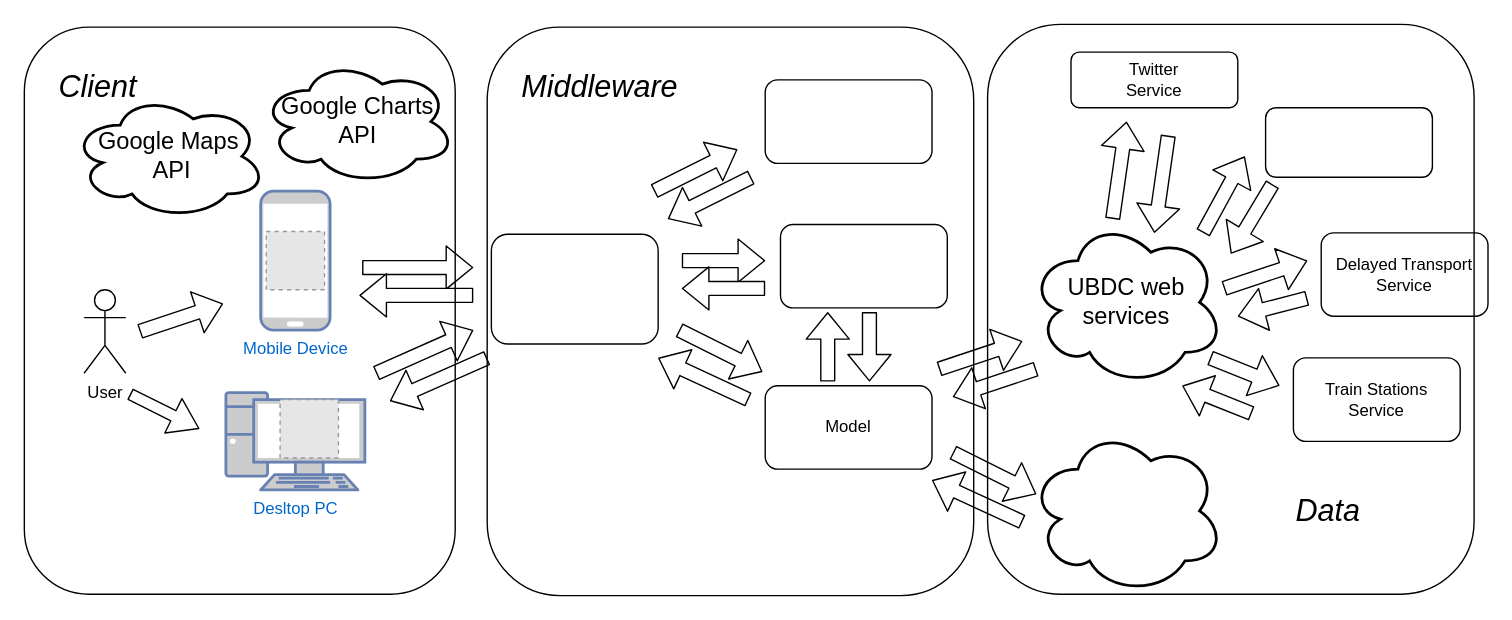
Some shapes in this 1512 by 620 pixel diagram are drawn without their labels. Grey dashed boxes stand in for pictures. The shapes that lost their labels are listed below. From the top down, each one's centre as x and y in pixels, then its label:
At (x=848, y=121): "View".
At (x=1348, y=141): "Busy Venues Service".
At (x=863, y=265): "Cache".
At (x=574, y=288): "Controller".
At (x=1126, y=510): "Twitter API".
